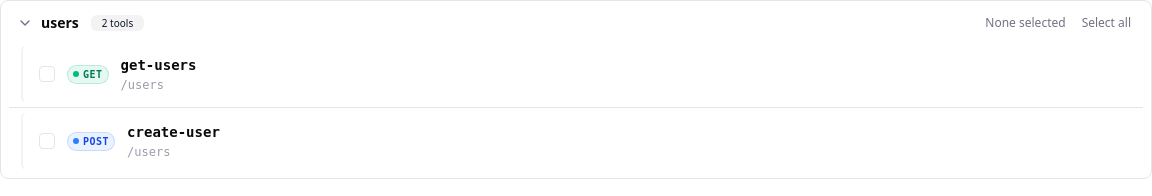
Test: ToolTagGroup › toggles aria-expanded when header is clicked
Click the button "users 2 tools None selected Select all": (60, 22) [17,13,1135,33]
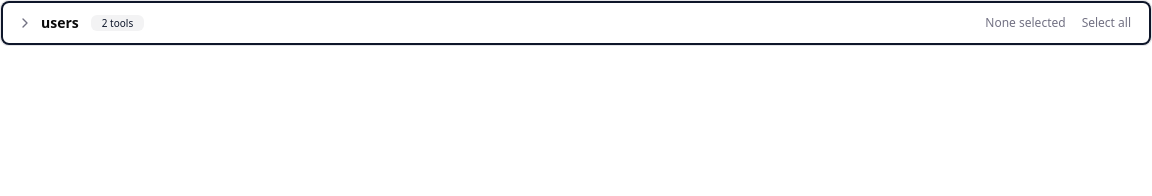
Now the button "users 2 tools None selected Select all" is collapsed, box [1,1,1151,45]
